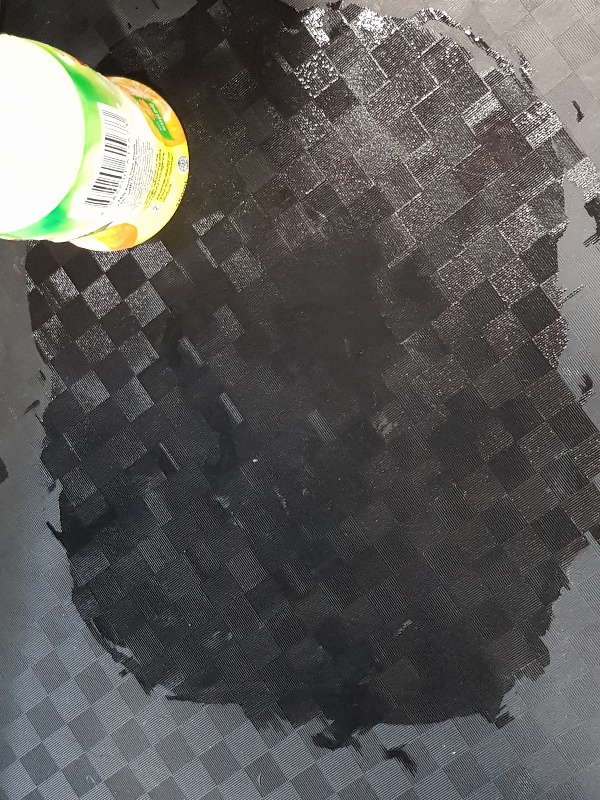Fruit Tree Yuzu Mixed Juice Drink: (1, 30, 187, 252)
